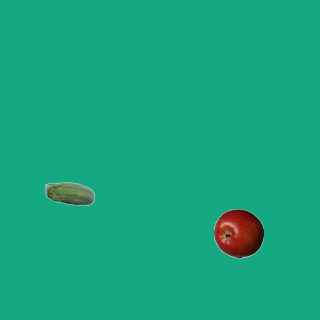Apple Braeburn: (213, 208, 263, 258)
Corn Husk: (44, 170, 94, 220)
